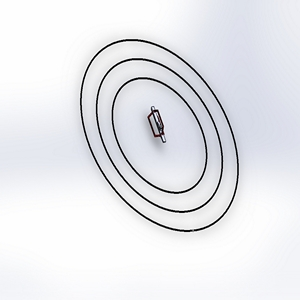circle: (67, 29, 245, 238)
submarine: (134, 101, 172, 150)
